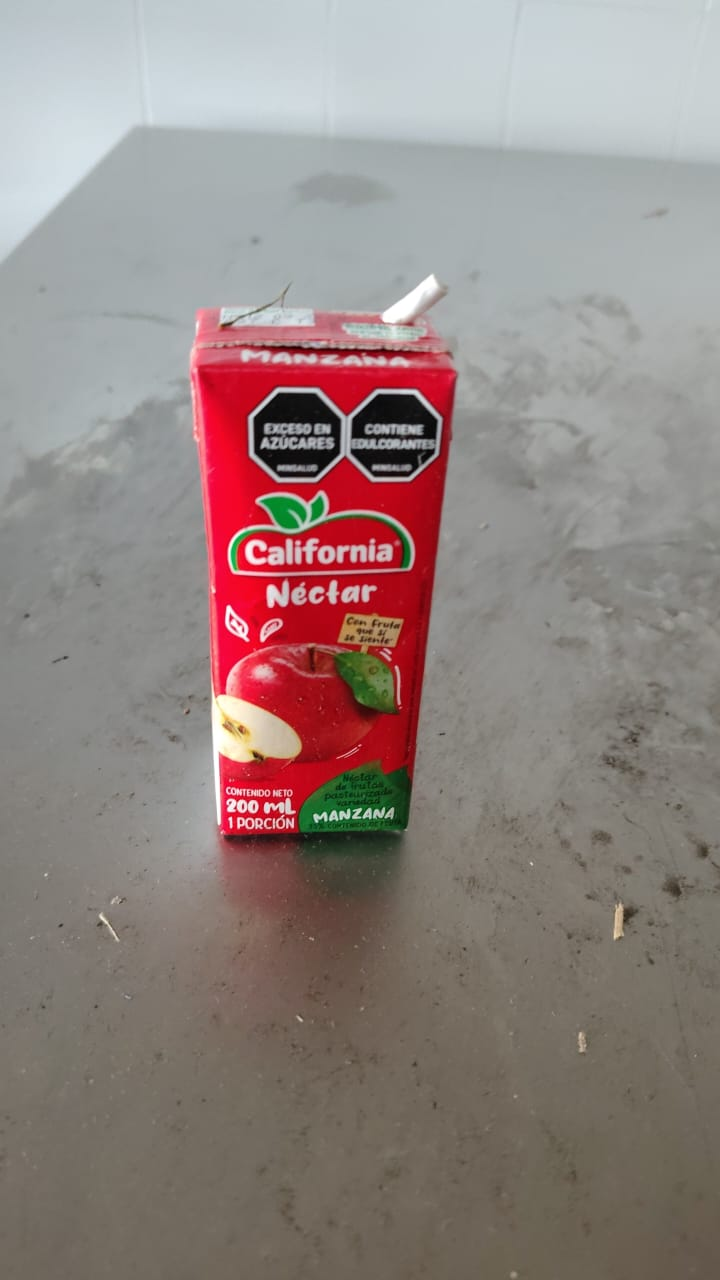Carton: (191, 307, 455, 835)
